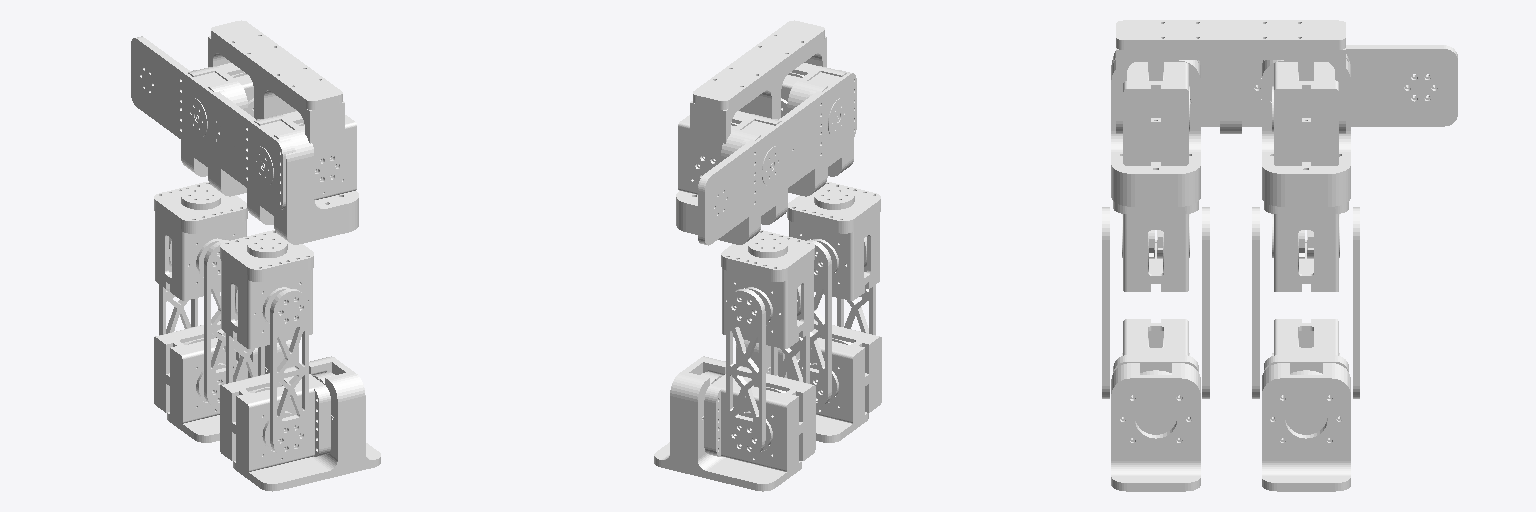
robot.urdf — nemo4b:
<?xml version="1.0" ?>
<robot name="nemo4b">
   <link name="pelvis">
      <inertial>
         <origin xyz="0.0 0.0 0.2" rpy="0.0 0.0 0.0"/>
         <mass value="5.11537484"/>
         <inertia ixx="0.03" iyy="0.03" izz="0.03" ixy="0" ixz="0" iyz="0"/>
      </inertial>
      <visual name="pelvis">
         <origin xyz="0.0 0.0 0.0" rpy="0.0 0.0 0.0"/>
         <geometry>
            <mesh filename="package://prairie_control/meshes/nemo4b/pelvis.stl"/>
         </geometry>
         <material name="white"/>
      </visual>
   </link>
   <link name="l_hip_pitch">
      <inertial>
      <!-- pos="-0.01821923 0 -3.205e-05", mass="1.8670971"
           fullinertia="0.00265583 0.00363357 0.00358009 -2e-07 -1.09e-06 0" -->
      <origin xyz="-0.01821923 0.0 -0.00003205" rpy="0 0 0"/>
      <mass value="1.8670971"/>
      <inertia
        ixx="0.00265583" ixy="-0.0000002"  ixz="-0.00000109"
        iyy="0.00363357" iyz="0.0"
        izz="0.00358009"/>
    </inertial>
      <visual name="l_hip_pitch">
         <geometry>
            <mesh filename="package://prairie_control/meshes/nemo4b/l_hip_pitch.stl"/>
         </geometry>
         <material name="white"/>
      </visual>
   </link>
   <joint type="revolute" name="l_hip_pitch">
      <parent link="pelvis"/>
      <child link="l_hip_pitch"/>
      <origin xyz="0.0 0.0965 -0.112" rpy="0 0 0"/>
      <axis xyz="0.0 1.0 0.0"/>
      <limit lower="-1.3" upper="1.3" effort="100" velocity="100"/>
   </joint>
   <link name="l_hip_roll">
      <inertial>
         <origin xyz="-0.01740501 1.764e-05 -0.05845559" rpy="0.0004863223254489439 0.19610377555273417 0.0010392456801208367"/>
         <mass value="2.00459959"/>
         <inertia ixx="0.006611571483374219" iyy="0.006331359985392611" izz="0.0028985185312331704" ixy="0" ixz="0" iyz="0"/>
      </inertial>
      <visual name="l_hip_roll">
         <geometry>
            <mesh filename="package://prairie_control/meshes/nemo4b/l_hip_roll.stl"/>
         </geometry>
         <material name="white"/>
      </visual>
   </link>
   <joint type="revolute" name="l_hip_roll">
      <parent link="l_hip_pitch"/>
      <child link="l_hip_roll"/>
      <origin xyz="-0.07875 0.0 0.0" rpy="0 0 0"/>
      <axis xyz="1.0 0.0 0.0"/>
      <limit lower="-0.4" upper="1.5" effort="100" velocity="100"/>
   </joint>
   <link name="l_hip_yaw">
      <inertial>
         <origin xyz="3.205e-05 -0.0 -0.06053076999999999" rpy="0.001179318771453497 0.0002045579945115783 1.5707921576398078"/>
         <mass value="1.8670971"/>
         <inertia ixx="0.003633570040911599" iyy="0.0035800912854579733" izz="0.0026558286736304273" ixy="0" ixz="0" iyz="0"/>
      </inertial>
      <visual name="l_hip_yaw">
         <geometry>
            <mesh filename="package://prairie_control/meshes/nemo4b/l_hip_yaw.stl"/>
         </geometry>
         <material name="white"/>
      </visual>
   </link>
   <joint type="revolute" name="l_hip_yaw">
      <parent link="l_hip_roll"/>
      <child link="l_hip_yaw"/>
      <origin xyz="0.00715 0.0 -0.1263" rpy="0 0 0"/>
      <axis xyz="0.0 0.0 1.0"/>
      <limit lower="-1.0" upper="1.0" effort="46" velocity="100"/>
   </joint>
   <link name="l_knee">
      <inertial>
         <origin xyz="0.0 5e-05 -0.10289321" rpy="0.0 0.0 0.0"/>
         <mass value="0.58007416"/>
         <inertia ixx="0.0070466" iyy="0.00513742" izz="0.00225232" ixy="0" ixz="0" iyz="0"/>
      </inertial>
      <visual name="l_knee">
         <geometry>
            <mesh filename="package://prairie_control/meshes/nemo4b/l_knee.stl"/>
         </geometry>
         <material name="white"/>
      </visual>
   </link>
   <joint type="revolute" name="l_knee">
      <parent link="l_hip_yaw"/>
      <child link="l_knee"/>
      <origin xyz="0.0 0.0 -0.07875" rpy="0 0 0"/>
      <axis xyz="0.0 1.0 0.0"/>
      <limit lower="-2.0" upper="2.0" effort="100" velocity="100"/>
   </joint>
   <link name="l_foot_pitch">
      <inertial>
         <origin xyz="0.01821923 -0.0 -3.205e-05" rpy="1.571975646419184 4.169155001454428e-06 1.57100088478941"/>
         <mass value="1.8670971"/>
         <inertia ixx="0.003633570040911599" iyy="0.0035800912854579733" izz="0.0026558286736304273" ixy="0" ixz="0" iyz="0"/>
      </inertial>
      <visual name="l_foot_pitch">
         <geometry>
            <mesh filename="package://prairie_control/meshes/nemo4b/l_foot_pitch.stl"/>
         </geometry>
         <material name="white"/>
      </visual>
   </link>
   <joint type="revolute" name="l_foot_pitch">
      <parent link="l_knee"/>
      <child link="l_foot_pitch"/>
      <origin xyz="0.0 0.0 -0.206" rpy="0 0 0"/>
      <axis xyz="0.0 1.0 0.0"/>
      <limit lower="-2.0" upper="2.0" effort="100" velocity="100"/>
   </joint>
   <link name="l_foot_roll">
      <inertial>
         <origin xyz="0.00757956 1.139e-05 -0.03942379" rpy="2.3433878067998437 -0.0008879622578734647 1.569836156558178"/>
         <mass value="1.5526793"/>
         <inertia ixx="0.005416700784880941" iyy="0.004963623876621819" izz="0.0028013153384972476" ixy="0" ixz="0" iyz="0"/>
      </inertial>
      <visual name="l_foot_roll">
         <geometry>
            <mesh filename="package://prairie_control/meshes/nemo4b/l_foot_roll.stl"/>
         </geometry>
         <material name="white"/>
      </visual>

      <collision>
        <origin xyz="-0.0187 0 -0.07975" rpy="0 0 0"/>
        <geometry>
          <box size="0.1 0.0505 0.006"/>
        </geometry>
      </collision>
   </link>
   <joint type="revolute" name="l_foot_roll">
      <parent link="l_foot_pitch"/>
      <child link="l_foot_roll"/>
      <origin xyz="0.07875 0.0 0.0" rpy="0 0 0"/>
      <axis xyz="1.0 0.0 0.0"/>
      <limit lower="-1.0" upper="1.0" effort="100" velocity="100"/>
   </joint>
   <link name="r_hip_pitch">
      <inertial>
         <origin xyz="0.0 0.0 0.0" rpy="0.0 0.0 0.0"/>
         <mass value="1.8670971"/>
         <inertia ixx="0.003633570040911599" iyy="0.0035800912854579733" izz="0.0026558286736304273" ixy="0" ixz="0" iyz="0"/>
      </inertial>
      <visual name="r_hip_pitch">
         <geometry>
            <mesh filename="package://prairie_control/meshes/nemo4b/l_hip_pitch.stl"/>
         </geometry>
         <material name="white"/>
      </visual>
   </link>
   <joint type="revolute" name="r_hip_pitch">
      <parent link="pelvis"/>
      <child link="r_hip_pitch"/>
      <origin xyz="0.0 -0.0965 -0.112" rpy="0.0 0.0 0.0"/>
      <axis xyz="0.0 1.0 0.0"/>
      <limit lower="-1.3" upper="1.3" effort="100" velocity="100"/>
   </joint>
   <link name="r_hip_roll">
      <inertial>
         <origin xyz="-0.01740501 1.764e-05 -0.05845559" rpy="0.0004863223254489439 0.19610377555273417 0.0010392456801208367"/>
         <mass value="2.00459959"/>
         <inertia ixx="0.006611571483374219" iyy="0.006331359985392611" izz="0.0028985185312331704" ixy="0" ixz="0" iyz="0"/>
      </inertial>
      <visual name="r_hip_roll">
         <geometry>
            <mesh filename="package://prairie_control/meshes/nemo4b/l_hip_roll.stl"/>
         </geometry>
         <material name="white"/>
      </visual>
   </link>
   <joint type="revolute" name="r_hip_roll">
      <parent link="r_hip_pitch"/>
      <child link="r_hip_roll"/>
      <origin xyz="-0.07875 0.0 0.0" rpy="0 0 0"/>
      <axis xyz="1.0 0.0 0.0"/>
      <limit lower="-1.5" upper="0.4" effort="100" velocity="100"/>
   </joint>
   <link name="r_hip_yaw">
      <inertial>
         <origin xyz="3.205e-05 -0.0 -0.06053076999999999" rpy="0.001179318771453497 0.0002045579945115783 1.5707921576398078"/>
         <mass value="1.8670971"/>
         <inertia ixx="0.003633570040911599" iyy="0.0035800912854579733" izz="0.0026558286736304273" ixy="0" ixz="0" iyz="0"/>
      </inertial>
      <visual name="r_hip_yaw">
         <geometry>
            <mesh filename="package://prairie_control/meshes/nemo4b/l_hip_yaw.stl"/>
         </geometry>
         <material name="white"/>
      </visual>
   </link>
   <joint type="revolute" name="r_hip_yaw">
      <parent link="r_hip_roll"/>
      <child link="r_hip_yaw"/>
      <origin xyz="0.00715 0.0 -0.1263" rpy="0 0 0"/>
      <axis xyz="0.0 0.0 1.0"/>
      <limit lower="-1.0" upper="1.0" effort="100" velocity="100"/>
   </joint>
   <link name="r_knee">
      <inertial>
         <origin xyz="0.0 5e-05 -0.10289321" rpy="0.0 0.0 0.0"/>
         <mass value="0.58007416"/>
         <inertia ixx="0.0070466" iyy="0.00513742" izz="0.00225232" ixy="0" ixz="0" iyz="0"/>
      </inertial>
      <visual name="l_knee">
         <geometry>
            <mesh filename="package://prairie_control/meshes/nemo4b/l_knee.stl"/>
         </geometry>
         <material name="white"/>
      </visual>
   </link>
   <joint type="revolute" name="r_knee">
      <parent link="r_hip_yaw"/>
      <child link="r_knee"/>
      <origin xyz="0.0 0.0 -0.07875" rpy="0 0 0"/>
      <axis xyz="0.0 1.0 0.0"/>
      <limit lower="-2.0" upper="2.0" effort="100" velocity="100"/>
   </joint>
   <link name="r_foot_pitch">
      <inertial>
         <origin xyz="0.01821923 -0.0 -3.205e-05" rpy="1.571975646419184 4.169155001454428e-06 1.57100088478941"/>
         <mass value="1.8670971"/>
         <inertia ixx="0.003633570040911599" iyy="0.0035800912854579733" izz="0.0026558286736304273" ixy="0" ixz="0" iyz="0"/>
      </inertial>
      <visual name="l_foot_pitch">
         <geometry>
            <mesh filename="package://prairie_control/meshes/nemo4b/l_foot_pitch.stl"/>
         </geometry>
         <material name="white"/>
      </visual>
   </link>
   <joint type="revolute" name="r_foot_pitch">
      <parent link="r_knee"/>
      <child link="r_foot_pitch"/>
      <origin xyz="0.0 0.0 -0.206" rpy="0 0 0"/>
      <axis xyz="0.0 1.0 0.0"/>
      <limit lower="-2.0" upper="2.0" effort="100" velocity="100"/>
   </joint>
   <link name="r_foot_roll">
      <inertial>
         <origin xyz="0.00757956 1.139e-05 -0.03942379" rpy="2.3433878067998437 -0.0008879622578734647 1.569836156558178"/>
         <mass value="1.5526793"/>
         <inertia ixx="0.005416700784880941" iyy="0.004963623876621819" izz="0.0028013153384972476" ixy="0" ixz="0" iyz="0"/>
      </inertial>
      <visual name="l_foot_roll">
         <geometry>
            <mesh filename="package://prairie_control/meshes/nemo4b/l_foot_roll.stl"/>
         </geometry>
         <material name="white"/>
      </visual>
   </link>
   <joint type="revolute" name="r_foot_roll">
      <parent link="r_foot_pitch"/>
      <child link="r_foot_roll"/>
      <origin xyz="0.07875 0.0 0.0" rpy="0 0 0"/>
      <axis xyz="1.0 0.0 0.0"/>
      <limit lower="-1.0" upper="1.0" effort="100" velocity="100"/>
   </joint>
   <material name="white">
      <color rgba="1 1 1 1"/>
   </material>

   <gazebo>
    <plugin name="gz::sim::systems::JointStatePublisher" filename="gz-sim-joint-state-publisher-system">
      <update_rate>2000</update_rate>
        <joint_name>l_hip_pitch</joint_name>
        <joint_name>l_hip_roll</joint_name>
        <joint_name>l_hip_yaw</joint_name>
        <joint_name>l_knee</joint_name>
        <joint_name>l_foot_pitch</joint_name>
        <joint_name>l_foot_roll</joint_name>
        <joint_name>r_hip_pitch</joint_name>
        <joint_name>r_hip_roll</joint_name>
        <joint_name>r_hip_yaw</joint_name>
        <joint_name>r_knee</joint_name>
        <joint_name>r_foot_pitch</joint_name>
        <joint_name>r_foot_roll</joint_name>
    </plugin>
  </gazebo>

  <gazebo>
    <plugin name="gz::sim::systems::JointTrajectoryController" filename="gz-sim-joint-trajectory-controller-system">
      <joint_name>l_hip_pitch</joint_name>
      <use_header_start_time>true</use_header_start_time>
      <position_p_gain>600</position_p_gain>
      <position_d_gain>0</position_d_gain>
      <velocity_p_gain>40</velocity_p_gain>
      <velocity_d_gain>0</velocity_d_gain>
      <position_cmd_min>-40</position_cmd_min>
      <position_cmd_max>40</position_cmd_max>
      <velocity_cmd_min>-10</velocity_cmd_min>
      <velocity_cmd_max>10</velocity_cmd_max>

      <joint_name>l_hip_roll</joint_name>
      <use_header_start_time>true</use_header_start_time>
      <position_p_gain>600</position_p_gain>
      <position_d_gain>0</position_d_gain>
      <velocity_p_gain>40</velocity_p_gain>
      <velocity_d_gain>0</velocity_d_gain>
      <position_cmd_min>-40</position_cmd_min>
      <position_cmd_max>40</position_cmd_max>
      <velocity_cmd_min>-10</velocity_cmd_min>
      <velocity_cmd_max>10</velocity_cmd_max>

      <joint_name>l_hip_yaw</joint_name>
      <use_header_start_time>true</use_header_start_time>
      <position_p_gain>600</position_p_gain>
      <position_d_gain>0</position_d_gain>
      <velocity_p_gain>40</velocity_p_gain>
      <velocity_d_gain>0</velocity_d_gain>
      <position_cmd_min>-40</position_cmd_min>
      <position_cmd_max>40</position_cmd_max>
      <velocity_cmd_min>-10</velocity_cmd_min>
      <velocity_cmd_max>10</velocity_cmd_max>

      <joint_name>l_knee</joint_name>
      <use_header_start_time>true</use_header_start_time>
      <position_p_gain>600</position_p_gain>
      <position_d_gain>0</position_d_gain>
      <velocity_p_gain>40</velocity_p_gain>
      <velocity_d_gain>0</velocity_d_gain>
      <position_cmd_min>-40</position_cmd_min>
      <position_cmd_max>40</position_cmd_max>
      <velocity_cmd_min>-10</velocity_cmd_min>
      <velocity_cmd_max>10</velocity_cmd_max>

      <joint_name>l_foot_pitch</joint_name>
      <use_header_start_time>true</use_header_start_time>
      <position_p_gain>600</position_p_gain>
      <position_d_gain>0</position_d_gain>
      <velocity_p_gain>40</velocity_p_gain>
      <velocity_d_gain>0</velocity_d_gain>
      <position_cmd_min>-40</position_cmd_min>
      <position_cmd_max>40</position_cmd_max>
      <velocity_cmd_min>-10</velocity_cmd_min>
      <velocity_cmd_max>10</velocity_cmd_max>

      <joint_name>l_foot_roll</joint_name>
      <use_header_start_time>true</use_header_start_time>
      <position_p_gain>600</position_p_gain>
      <position_d_gain>0</position_d_gain>
      <velocity_p_gain>40</velocity_p_gain>
      <velocity_d_gain>0</velocity_d_gain>
      <position_cmd_min>-40</position_cmd_min>
      <position_cmd_max>40</position_cmd_max>
      <velocity_cmd_min>-10</velocity_cmd_min>
      <velocity_cmd_max>10</velocity_cmd_max>

      <joint_name>r_hip_pitch</joint_name>
      <use_header_start_time>true</use_header_start_time>
      <position_p_gain>600</position_p_gain>
      <position_d_gain>0</position_d_gain>
      <velocity_p_gain>40</velocity_p_gain>
      <velocity_d_gain>0</velocity_d_gain>
      <position_cmd_min>-40</position_cmd_min>
      <position_cmd_max>40</position_cmd_max>
      <velocity_cmd_min>-10</velocity_cmd_min>
      <velocity_cmd_max>10</velocity_cmd_max>

      <joint_name>r_hip_roll</joint_name>
      <use_header_start_time>true</use_header_start_time>
      <position_p_gain>600</position_p_gain>
      <position_d_gain>0</position_d_gain>
      <velocity_p_gain>40</velocity_p_gain>
      <velocity_d_gain>0</velocity_d_gain>
      <position_cmd_min>-40</position_cmd_min>
      <position_cmd_max>40</position_cmd_max>
      <velocity_cmd_min>-10</velocity_cmd_min>
      <velocity_cmd_max>10</velocity_cmd_max>

      <joint_name>r_hip_yaw</joint_name>
      <use_header_start_time>true</use_header_start_time>
      <position_p_gain>600</position_p_gain>
      <position_d_gain>0</position_d_gain>
      <velocity_p_gain>40</velocity_p_gain>
      <velocity_d_gain>0</velocity_d_gain>
      <position_cmd_min>-40</position_cmd_min>
      <position_cmd_max>40</position_cmd_max>
      <velocity_cmd_min>-10</velocity_cmd_min>
      <velocity_cmd_max>10</velocity_cmd_max>

      <joint_name>r_knee</joint_name>
      <use_header_start_time>true</use_header_start_time>
      <position_p_gain>600</position_p_gain>
      <position_d_gain>0</position_d_gain>
      <velocity_p_gain>40</velocity_p_gain>
      <velocity_d_gain>0</velocity_d_gain>
      <position_cmd_min>-40</position_cmd_min>
      <position_cmd_max>40</position_cmd_max>
      <velocity_cmd_min>-10</velocity_cmd_min>
      <velocity_cmd_max>10</velocity_cmd_max>

      <joint_name>r_foot_pitch</joint_name>
      <use_header_start_time>true</use_header_start_time>
      <position_p_gain>600</position_p_gain>
      <position_d_gain>0</position_d_gain>
      <velocity_p_gain>40</velocity_p_gain>
      <velocity_d_gain>0</velocity_d_gain>
      <position_cmd_min>-40</position_cmd_min>
      <position_cmd_max>40</position_cmd_max>
      <velocity_cmd_min>-10</velocity_cmd_min>
      <velocity_cmd_max>10</velocity_cmd_max>

      <joint_name>r_foot_roll</joint_name>
      <use_header_start_time>true</use_header_start_time>
      <position_p_gain>600</position_p_gain>
      <position_d_gain>0</position_d_gain>
      <velocity_p_gain>40</velocity_p_gain>
      <velocity_d_gain>0</velocity_d_gain>
      <position_cmd_min>-40</position_cmd_min>
      <position_cmd_max>40</position_cmd_max>
      <velocity_cmd_min>-10</velocity_cmd_min>
      <velocity_cmd_max>10</velocity_cmd_max>
    </plugin>
    <plugin
       filename="gz-sim-pose-publisher-system"
       name="gz::sim::systems::PosePublisher">
       <publish_link_pose>true</publish_link_pose>
       <use_pose_vector_msg>true</use_pose_vector_msg>
    </plugin>
    <plugin
       filename="gz-sim-odometry-publisher-system"
       name="gz::sim::systems::OdometryPublisher">
       <robot_base_frame>h1/pelvis</robot_base_frame>
       <dimensions>3</dimensions>
    </plugin>

  </gazebo>
  <gazebo reference="pelvis">
    <sensor name="imu_sensor" type="imu">
       <always_on>1</always_on>
       <update_rate>1</update_rate>
       <visualize>true</visualize>
       <topic>imu</topic>
       <plugin
        filename="gz-sim-imu-system"
        name="gz::sim::systems::Imu">
        </plugin>
    </sensor>
  </gazebo>
</robot>

--- Render facts (derived) ---
The picture shows the robot from 3 angles, left to right: view 1: azimuth 30°, elevation 25°; view 2: azimuth 150°, elevation 25°; view 3: azimuth 270°, elevation 25°; orthographic projection.
Model nemo4b with 13 links and 12 joints (12 revolute), rooted at pelvis, posed all joints at 0.
Links seen in each view (by area): view 1: pelvis, r_hip_yaw, l_hip_yaw, r_hip_pitch, r_foot_pitch, r_hip_roll, r_foot_roll, r_knee, l_hip_pitch, l_foot_pitch, l_knee, l_hip_roll (+1 smaller); view 2: pelvis, l_hip_yaw, r_hip_yaw, l_hip_pitch, l_foot_pitch, l_knee, l_foot_roll, r_hip_pitch, r_foot_pitch, r_knee, l_hip_roll, r_hip_roll (+1 smaller); view 3: l_hip_pitch, pelvis, r_foot_roll, l_foot_roll, r_hip_pitch, r_hip_roll, l_hip_roll, r_hip_yaw, l_hip_yaw, r_foot_pitch, l_foot_pitch, r_knee (+1 smaller).
Link boxes in pixels (<box>): pelvis: <box>208,20,344,187</box>; r_hip_yaw: <box>220,230,313,348</box>; l_hip_yaw: <box>154,182,247,300</box>; r_hip_pitch: <box>197,86,356,209</box>; r_foot_pitch: <box>220,366,330,472</box>; r_hip_roll: <box>247,114,358,244</box>; r_foot_roll: <box>233,356,380,491</box>; r_knee: <box>226,289,308,456</box>; l_hip_pitch: <box>131,36,253,161</box>; l_foot_pitch: <box>154,319,257,423</box>; l_knee: <box>159,240,242,408</box>; l_hip_roll: <box>181,66,247,196</box>; pelvis: <box>690,20,826,181</box>; l_hip_yaw: <box>721,230,814,348</box>; r_hip_yaw: <box>787,182,880,300</box>; l_hip_pitch: <box>678,111,790,245</box>; l_foot_pitch: <box>704,366,815,472</box>; l_knee: <box>726,289,809,456</box>; l_foot_roll: <box>654,356,801,491</box>; r_hip_pitch: <box>773,63,856,193</box>; r_foot_pitch: <box>778,319,881,423</box>; r_knee: <box>793,240,875,408</box>; l_hip_roll: <box>676,114,787,244</box>; r_hip_roll: <box>787,66,853,196</box>; l_hip_pitch: <box>1264,45,1457,165</box>; pelvis: <box>1116,20,1345,133</box>; r_foot_roll: <box>1111,363,1200,491</box>; l_foot_roll: <box>1262,363,1350,491</box>; r_hip_pitch: <box>1113,51,1262,165</box>; r_hip_roll: <box>1111,60,1200,206</box>; l_hip_roll: <box>1262,59,1350,206</box>; r_hip_yaw: <box>1113,201,1198,291</box>; l_hip_yaw: <box>1264,202,1348,291</box>; r_foot_pitch: <box>1113,319,1198,372</box>; l_foot_pitch: <box>1264,319,1348,373</box>; r_knee: <box>1102,207,1209,398</box>.
Bounding box of the posed robot: 0.2225 × 0.4576 × 0.6093 m (x, y, z).
13 mesh visuals loaded from 7 distinct referenced files (7 binary STL).
